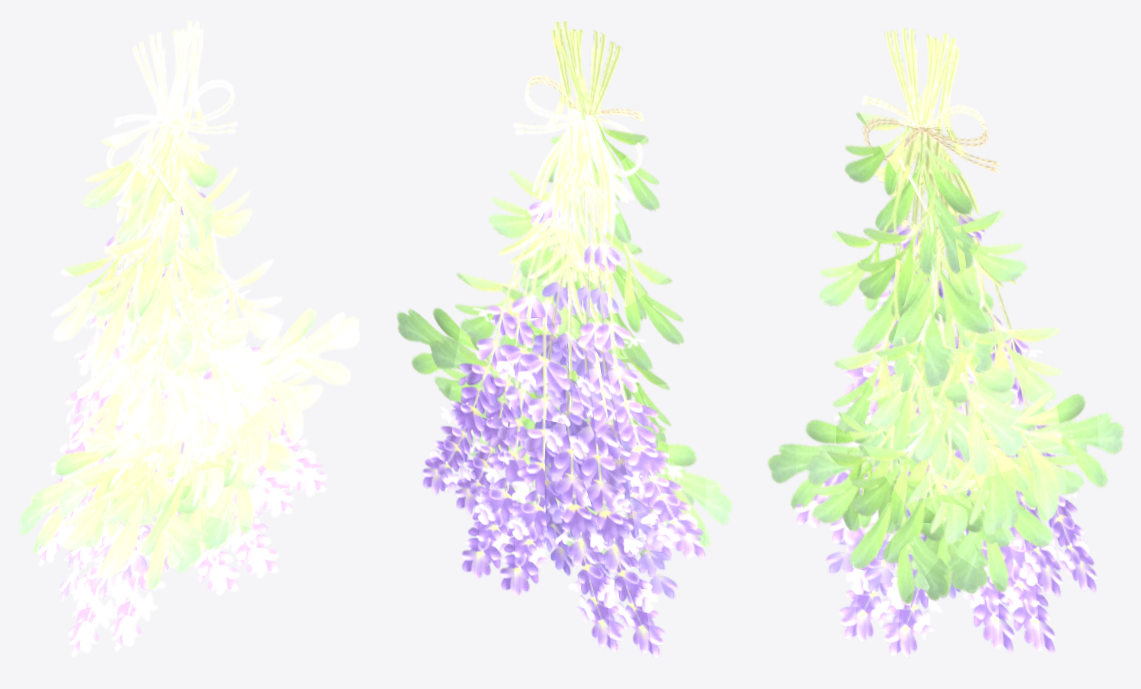
The model's file is plantas.glb.
3 views of the same model, side by side, from view 1: azimuth 30°, elevation 25°; view 2: azimuth 150°, elevation 25°; view 3: azimuth 330°, elevation 25° (orthographic). The views are drawn at different scales.
Visible parts, largest first — view 1: Plane.002; view 2: Plane.002; view 3: Plane.002.
Part boxes in pixels (x1=…): Plane.002: x1=19, y1=20, x2=360, y2=657; Plane.002: x1=396, y1=21, x2=732, y2=657; Plane.002: x1=767, y1=27, x2=1123, y2=657.
Bounding box in the file's own units: 0.5896 × 1.06 × 0.0937.
Materials: 2 (2 with a texture image).
